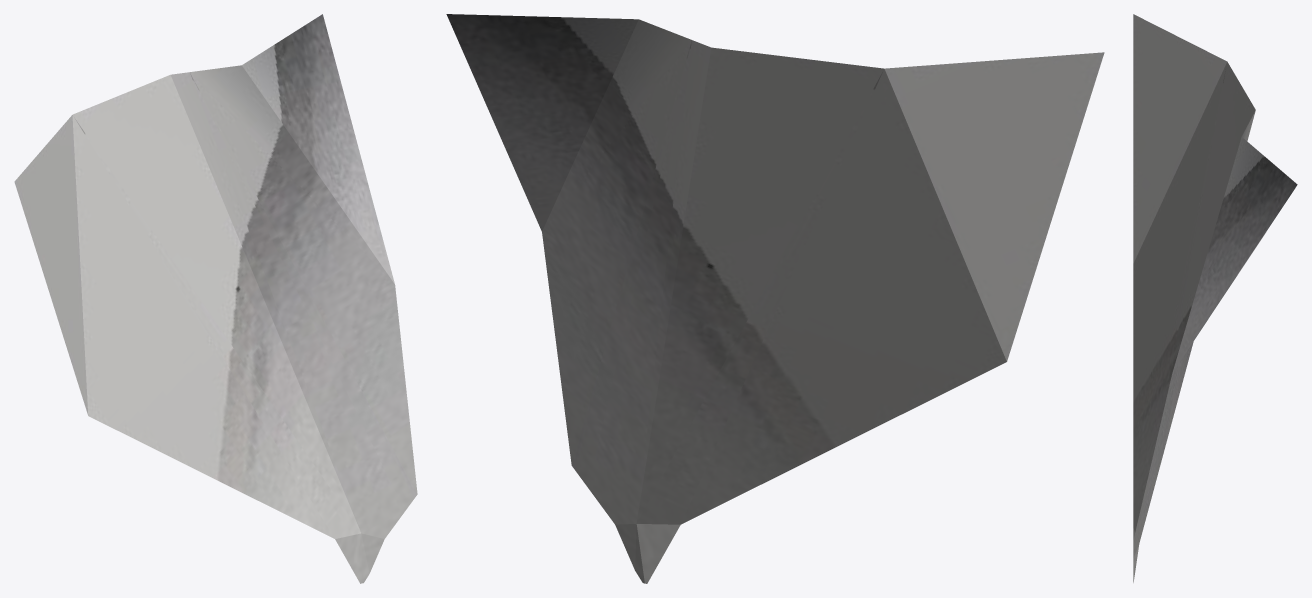
3 renders of one model, left to right at view 1: azimuth 30°, elevation 25°; view 2: azimuth 150°, elevation 25°; view 3: azimuth 270°, elevation 25°, orthographic. The views are drawn at different scales.
Size of the model in its own units: 2.56 by 2.95 by 1.04.
Materials: 2 (2 with a texture image).
